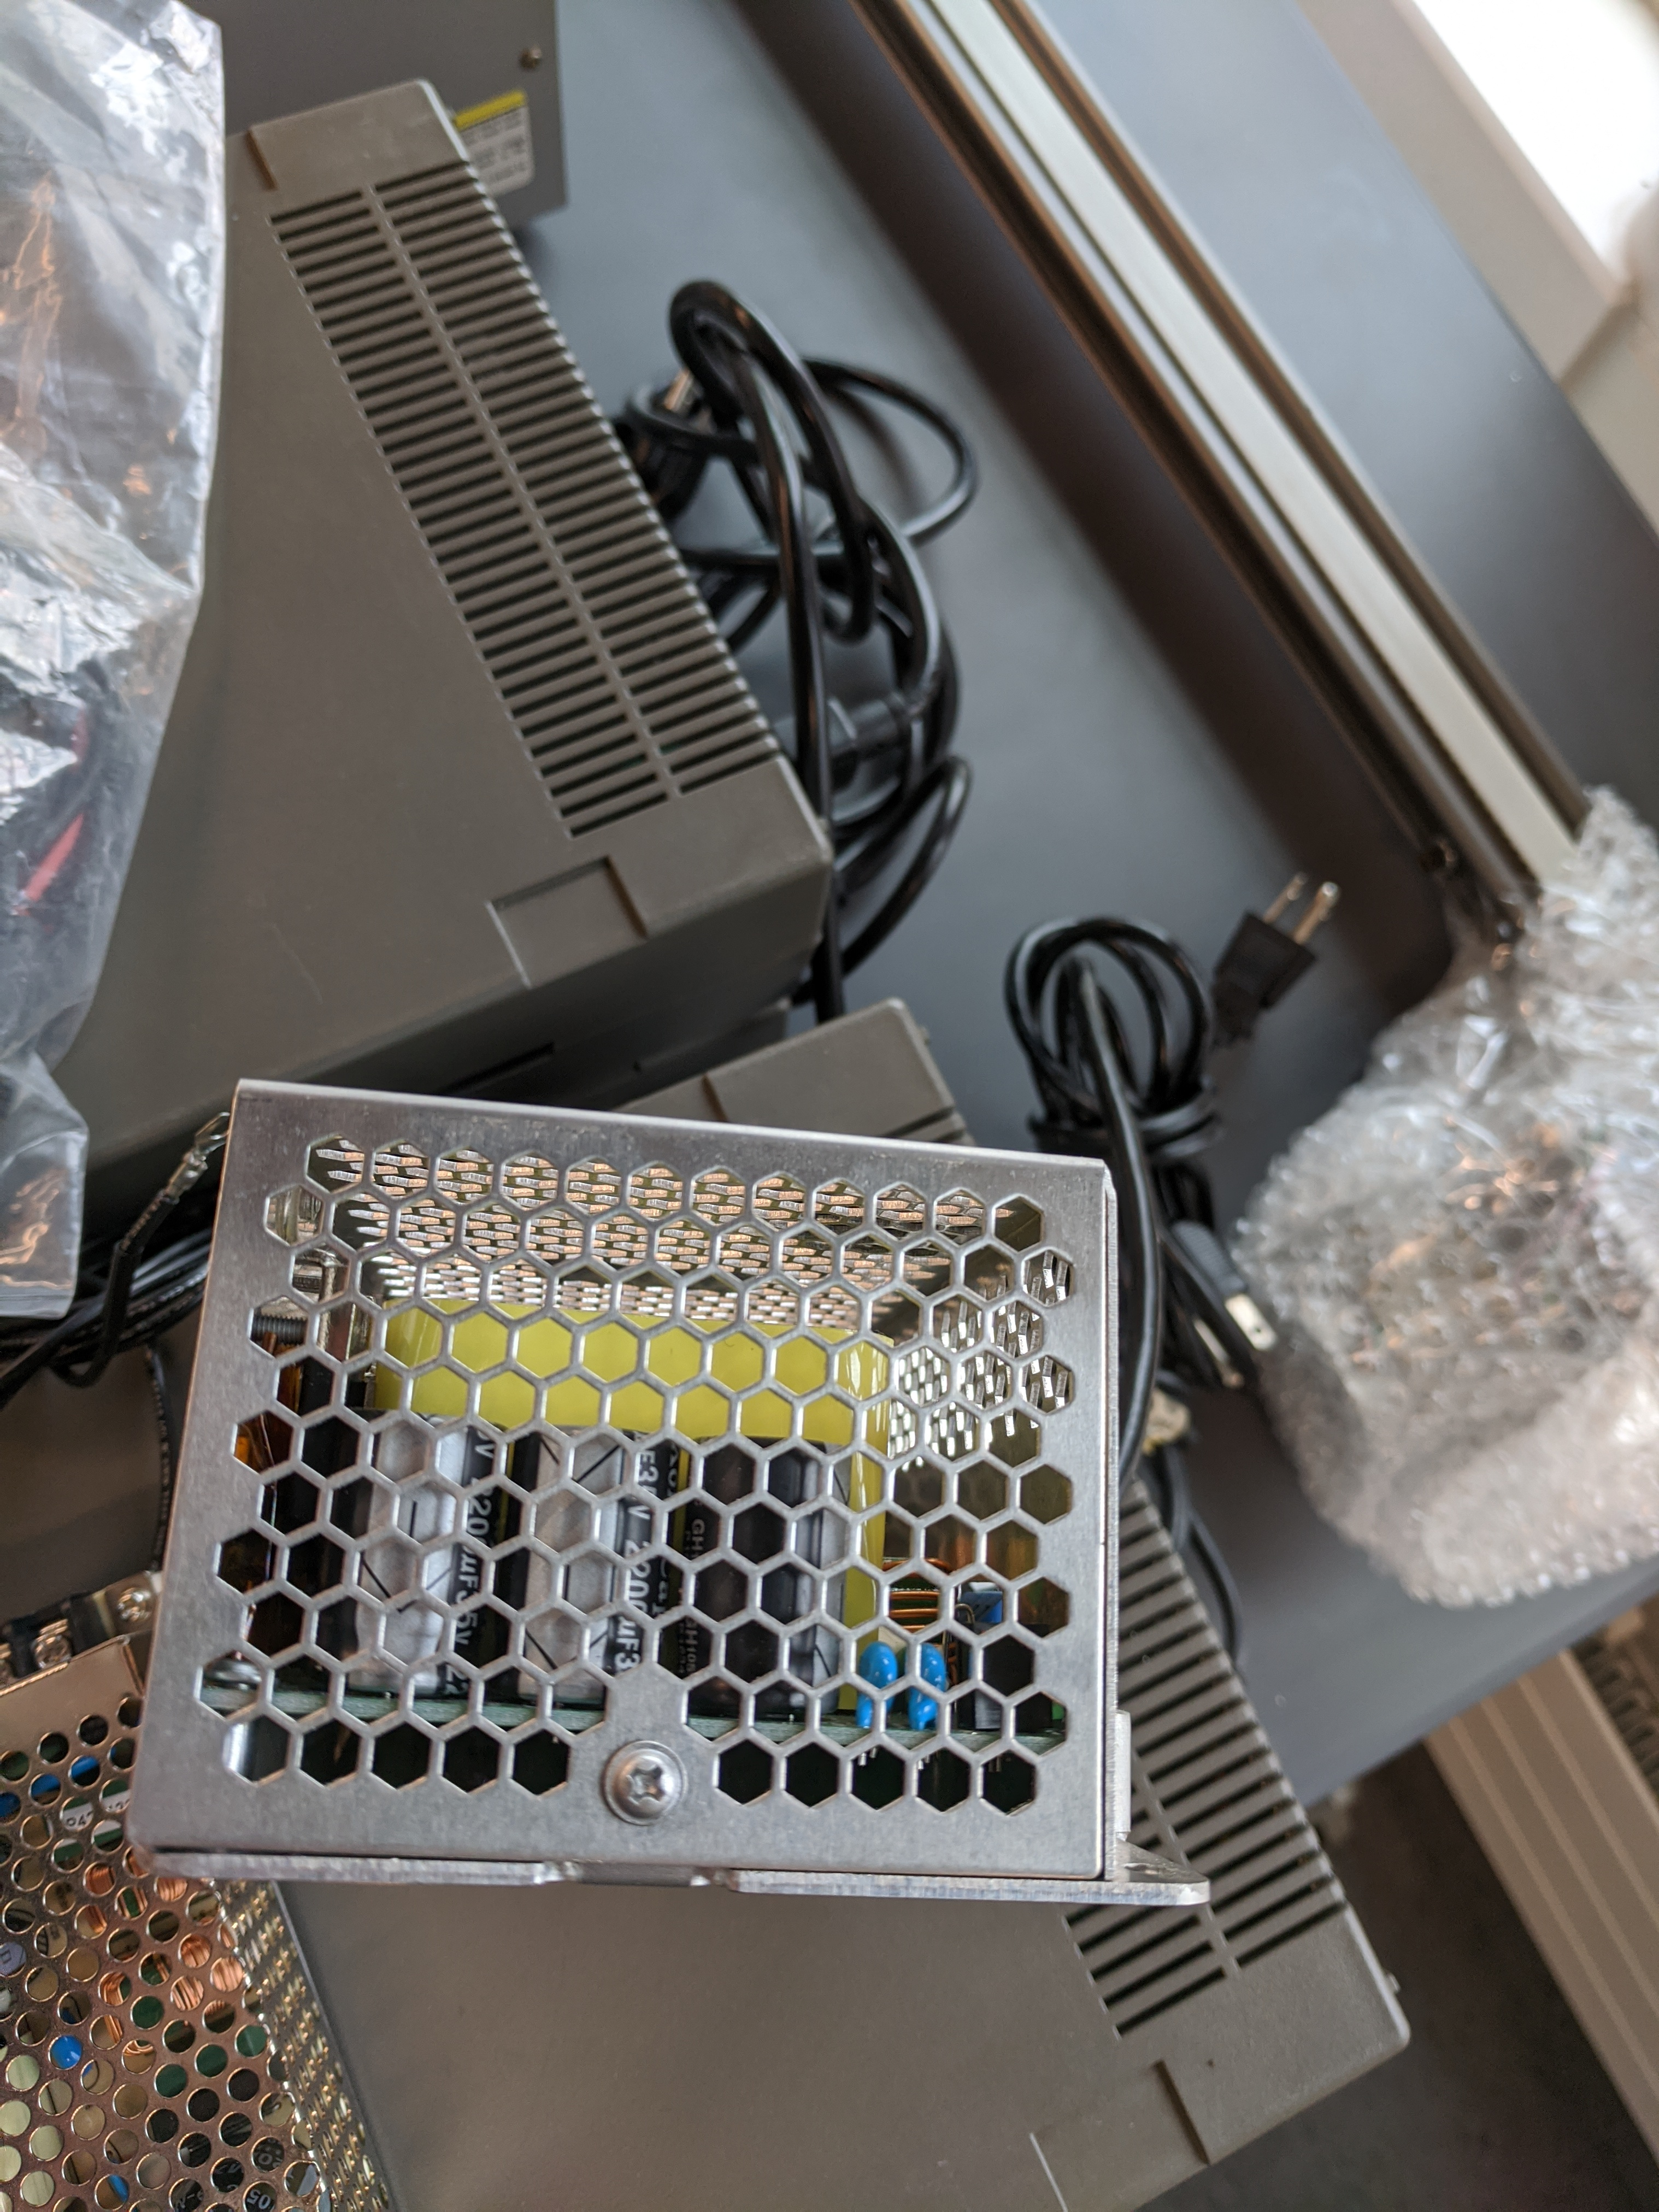cross_recessed_screw: (596, 1733, 694, 1824)
